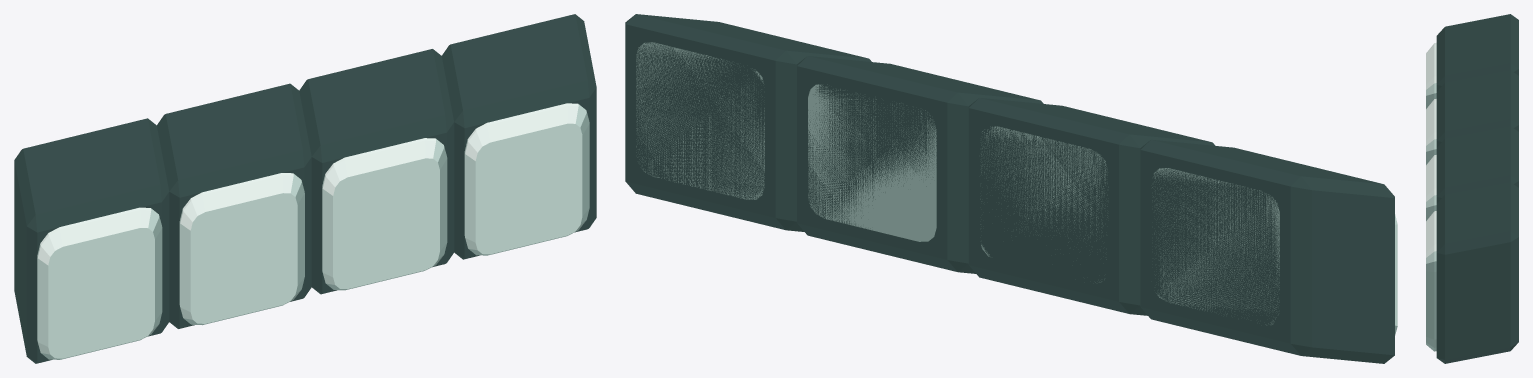
File: Terrain_Block4x1.gltf
The picture shows the model from 3 angles, left to right: view 1: azimuth 30°, elevation 25°; view 2: azimuth 150°, elevation 25°; view 3: azimuth 270°, elevation 25°; orthographic projection. The views are drawn at different scales.
Visible parts, largest first — view 1: Terrain_Block4x1_baked; view 2: Terrain_Block4x1_baked; view 3: Terrain_Block4x1_baked.
Boxes of the visible parts, bbox=[...] form: Terrain_Block4x1_baked: bbox=[14, 14, 596, 363]; Terrain_Block4x1_baked: bbox=[625, 14, 1397, 363]; Terrain_Block4x1_baked: bbox=[1426, 14, 1518, 363].
Bounding box in the file's own units: 4.2 × 1.2 × 0.7.
